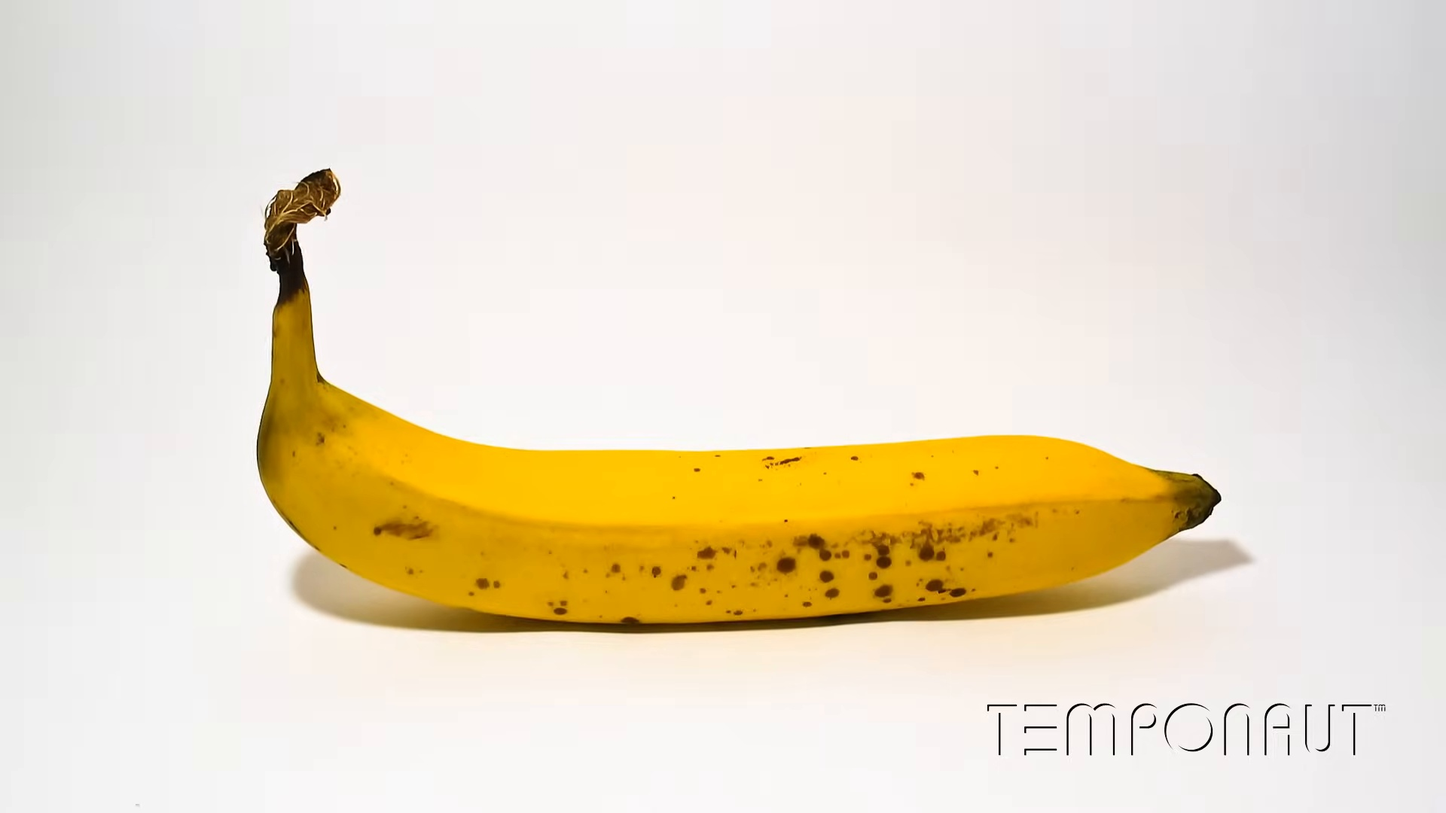banana_rotten: (255, 170, 1222, 628)
